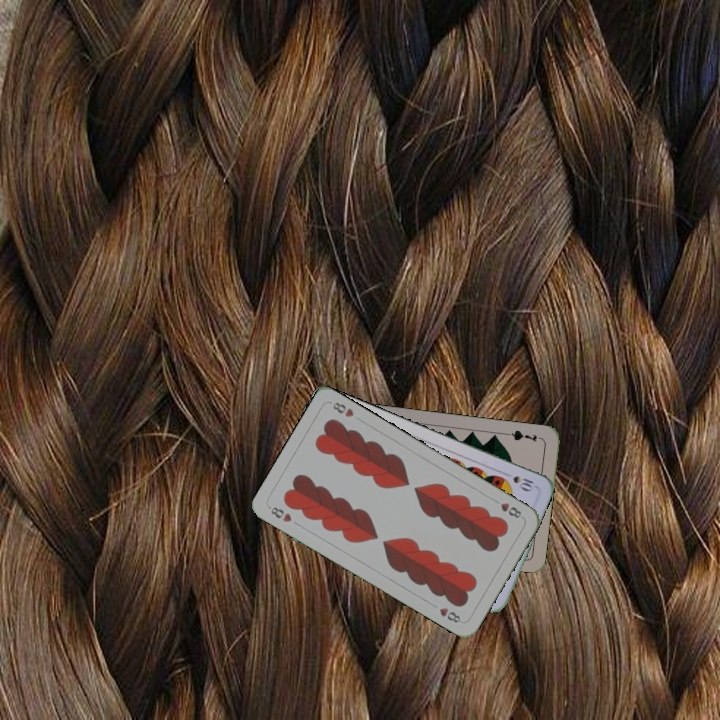G7: (504, 426, 544, 444)
H8: (265, 503, 294, 525), (496, 499, 524, 521)
S10: (499, 468, 538, 493)
